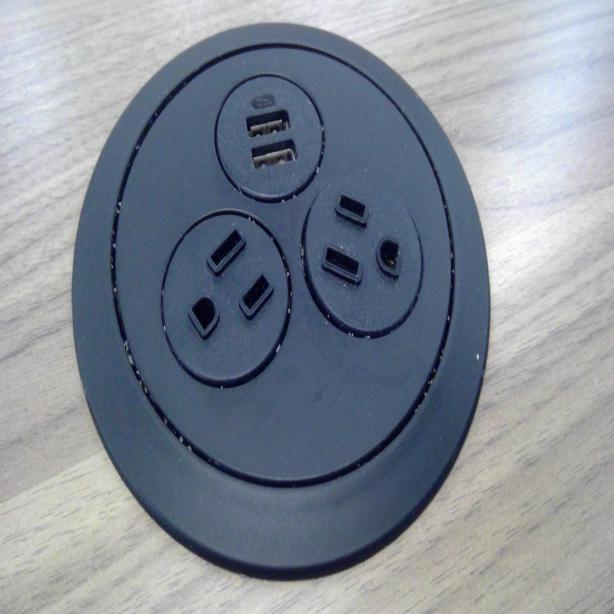typeb: (314, 187, 416, 318), (183, 225, 279, 359)
